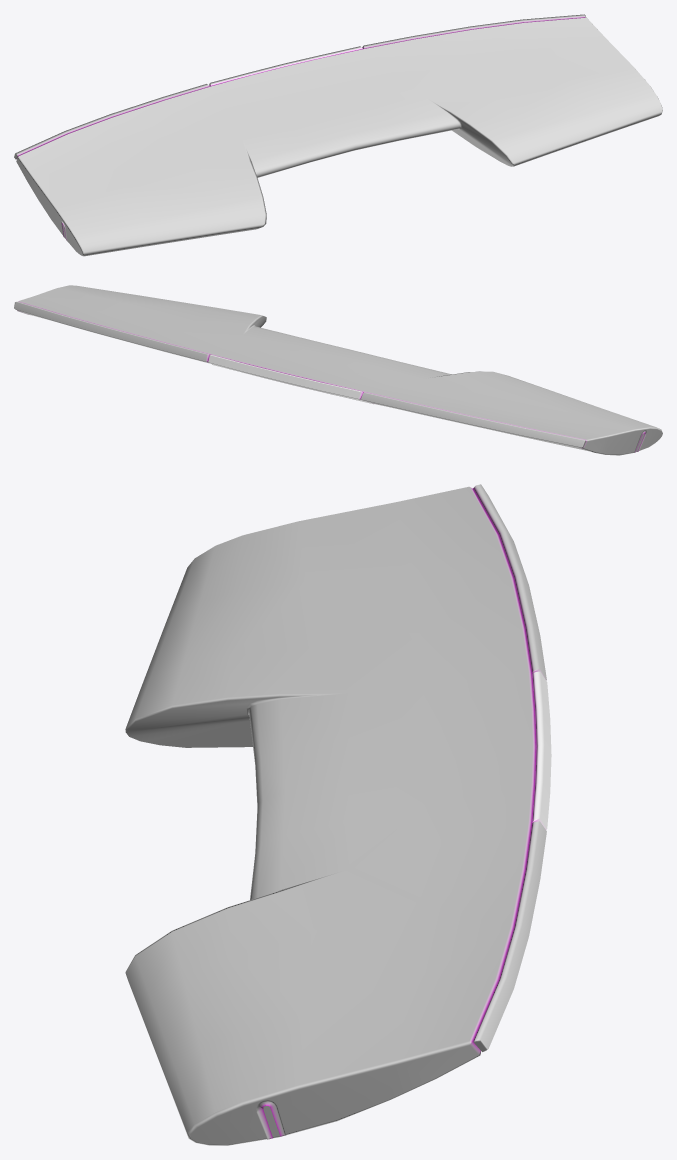
Rendered from Car_Ford_GT_2017_SpoilerPartB_SetA.fbx.
3 renders of one model, top to bottom at view 1: azimuth 30°, elevation 25°; view 2: azimuth 150°, elevation 25°; view 3: azimuth 270°, elevation 25°, orthographic. The views are drawn at different scales.
Visible parts, largest first — view 1: SpoilerPartB 5; view 2: SpoilerPartB 5; view 3: SpoilerPartB 5.
Boxes of the visible parts, x1=… form: SpoilerPartB 5: x1=14, y1=14, x2=662, y2=256; SpoilerPartB 5: x1=14, y1=285, x2=662, y2=455; SpoilerPartB 5: x1=125, y1=484, x2=551, y2=1145.
Bounding box in the file's own units: 1.13 × 0.1187 × 0.358.
